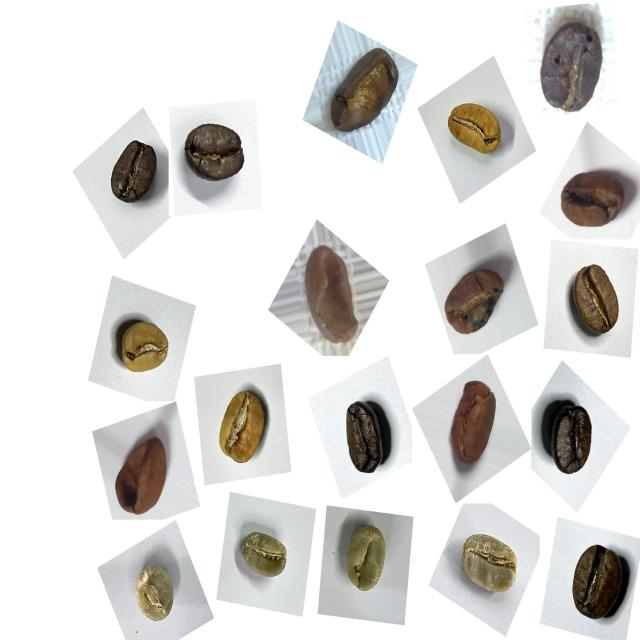bad: (320, 33, 407, 143), (529, 9, 610, 120), (293, 236, 369, 348), (436, 247, 517, 348), (551, 150, 636, 244), (437, 370, 509, 480), (105, 422, 179, 529)
dark: (532, 388, 606, 486), (328, 386, 399, 483)
green: (450, 523, 527, 609), (334, 515, 400, 603), (231, 518, 299, 592), (124, 555, 186, 634)
light: (203, 373, 279, 478), (438, 88, 513, 170), (108, 308, 178, 390)
medium: (558, 534, 640, 632), (177, 109, 252, 197), (560, 256, 631, 348), (101, 133, 165, 214)
